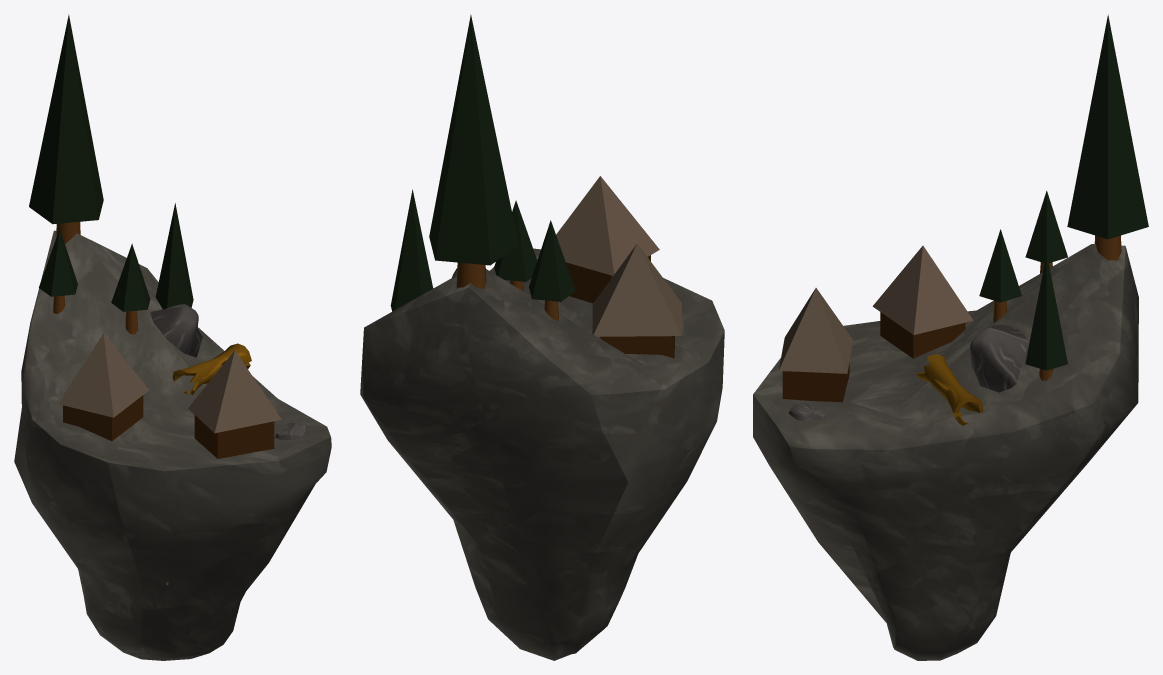
The model's file is illa4-1.fbx.
3 views of the same model, side by side, from view 1: azimuth 30°, elevation 25°; view 2: azimuth 150°, elevation 25°; view 3: azimuth 270°, elevation 25° (orthographic). The views are drawn at different scales.
Visible parts, largest first — view 1: pCube58; view 2: pCube58; view 3: pCube58.
Part boxes in pixels (x1,y1,x2,y2): pCube58: (14,14,331,660); pCube58: (360,14,724,660); pCube58: (753,14,1148,660).
Bounding box in the file's own units: 7.26 × 18.06 × 10.27.
1 material, 1 textured.
